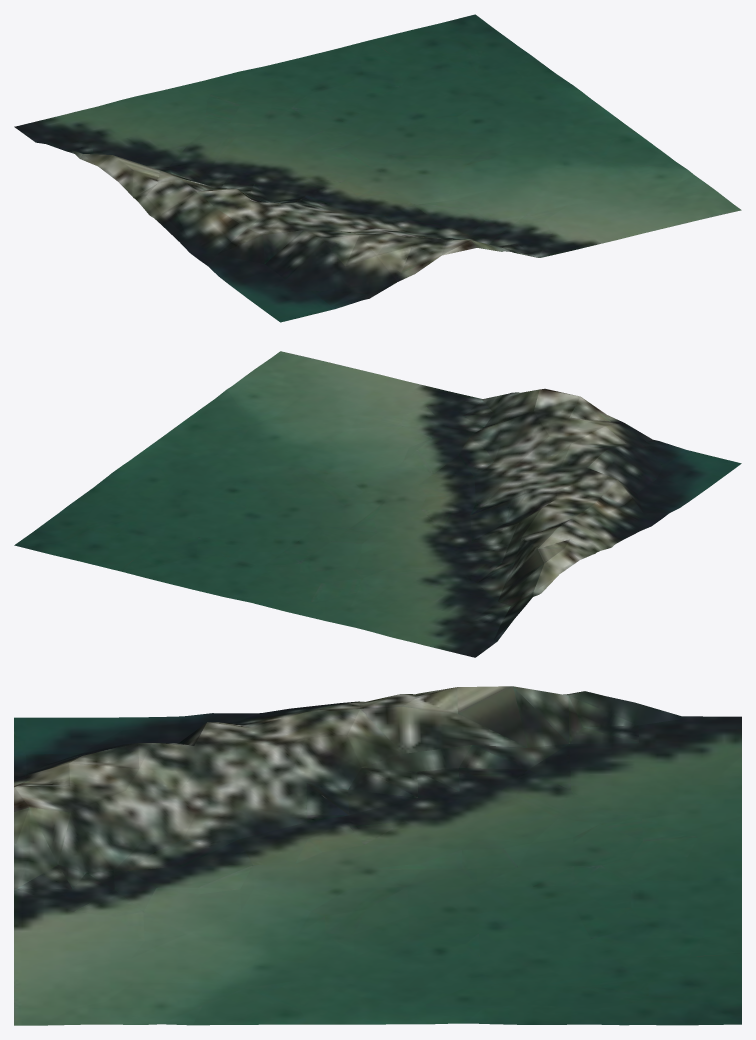
The picture shows the model from 3 angles, top to bottom: view 1: azimuth 30°, elevation 25°; view 2: azimuth 150°, elevation 25°; view 3: azimuth 270°, elevation 25°; orthographic projection. The views are drawn at different scales.
Bounding box in the file's own units: 52.22 × 3.35 × 52.22.
3 materials, 3 textured.
